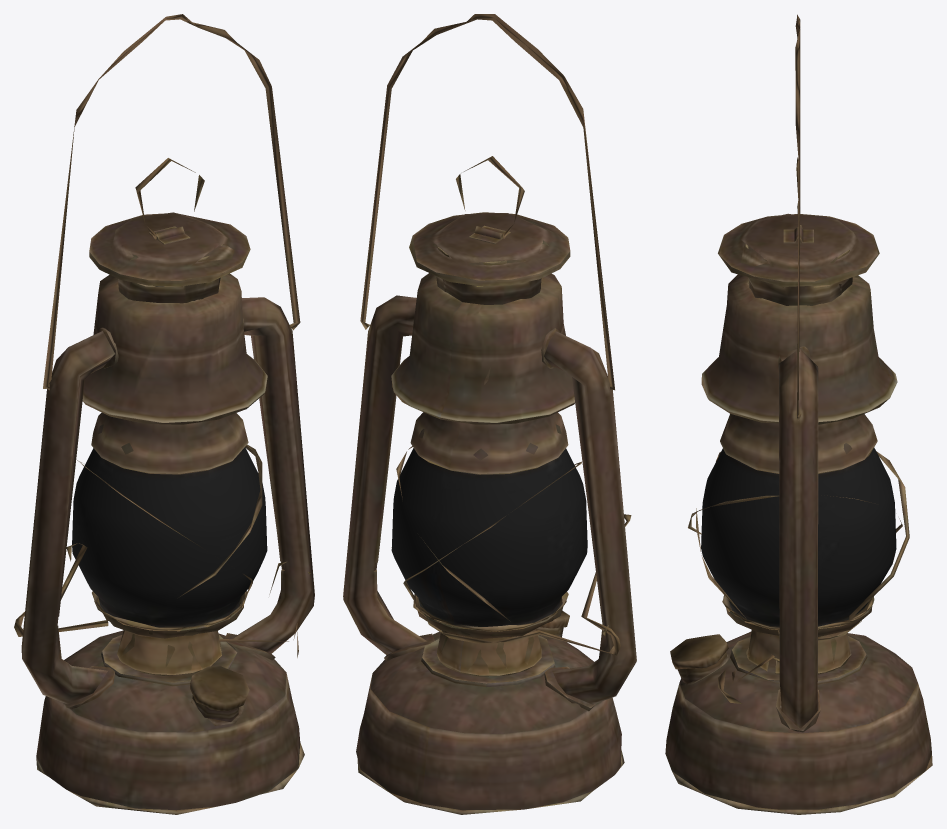
Rendered from lantern_01.glb.
3 views of the same model, side by side, from view 1: azimuth 30°, elevation 25°; view 2: azimuth 150°, elevation 25°; view 3: azimuth 270°, elevation 25° (orthographic).
Visible parts, largest first — view 1: Lantern_01, Lantern_01_glass; view 2: Lantern_01, Lantern_01_glass; view 3: Lantern_01, Lantern_01_glass.
Boxes of the visible parts, left/top/right/bottom form: Lantern_01: left=14, top=14, right=314, bottom=814; Lantern_01_glass: left=72, top=447, right=267, bottom=626; Lantern_01: left=343, top=14, right=636, bottom=814; Lantern_01_glass: left=391, top=448, right=587, bottom=626; Lantern_01: left=665, top=14, right=932, bottom=814; Lantern_01_glass: left=701, top=447, right=896, bottom=626.
Size of the model in its own units: 0.1211 by 0.2938 by 0.0958.
2 materials, 2 textured.
